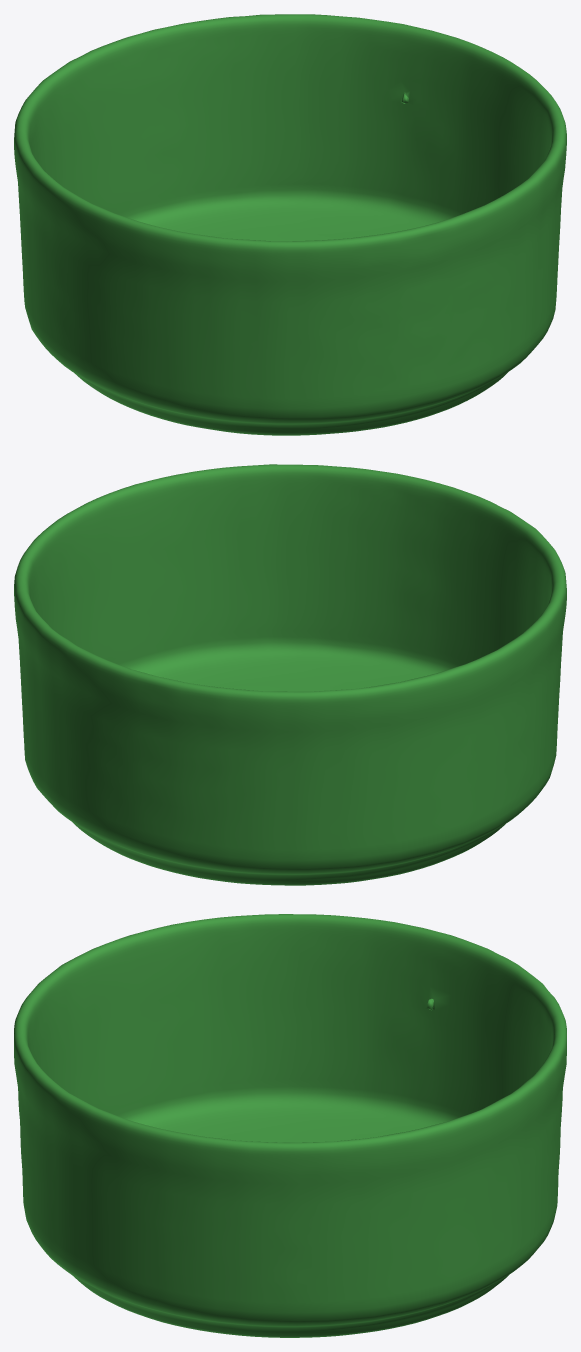
3 views of the same model, one above another, from view 1: azimuth 30°, elevation 25°; view 2: azimuth 150°, elevation 25°; view 3: azimuth 270°, elevation 25° (orthographic).
Parts seen in each view (by area): view 1: model; view 2: model; view 3: model.
Part boxes in pixels (<box>): model: <box>14,14,566,435</box>; model: <box>14,464,566,885</box>; model: <box>14,914,566,1337</box>.
Bounding box in the file's own units: 2.37 × 1 × 2.36.
